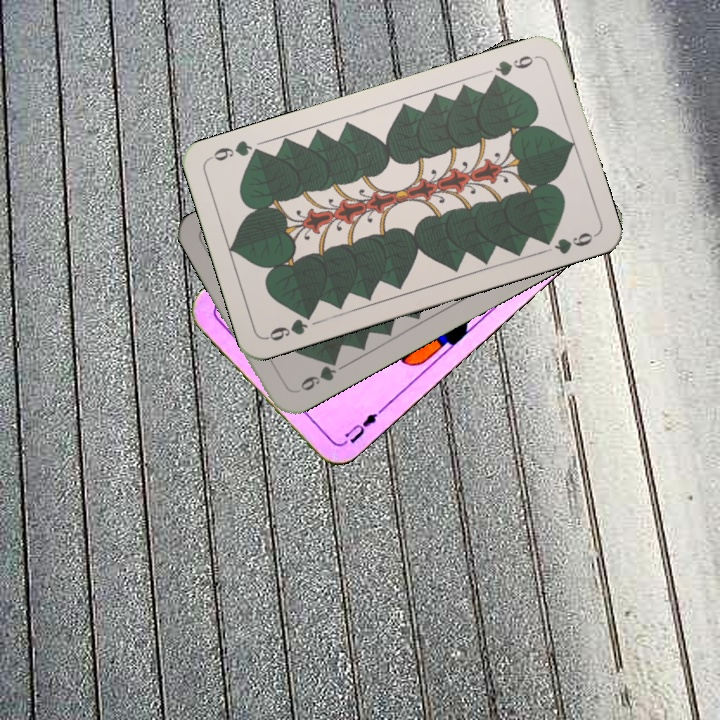EU: (337, 405, 386, 448)
G9: (290, 354, 340, 396), (262, 307, 316, 344), (486, 51, 541, 85)
